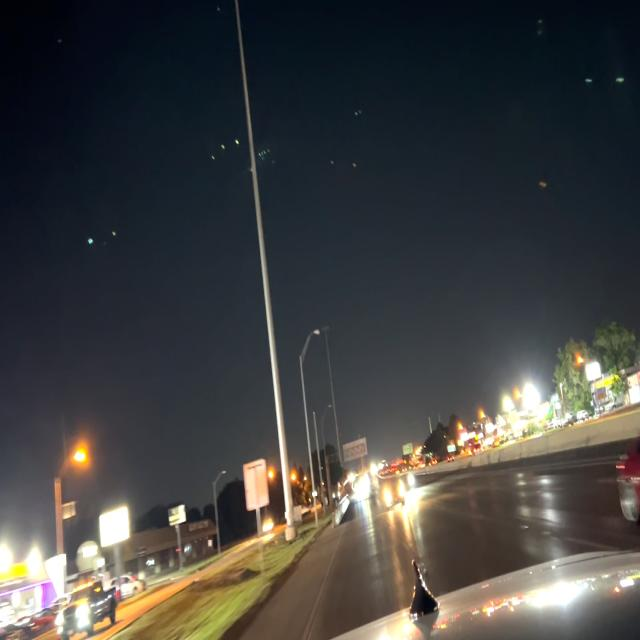back-of-sign: (244, 458, 270, 515)
